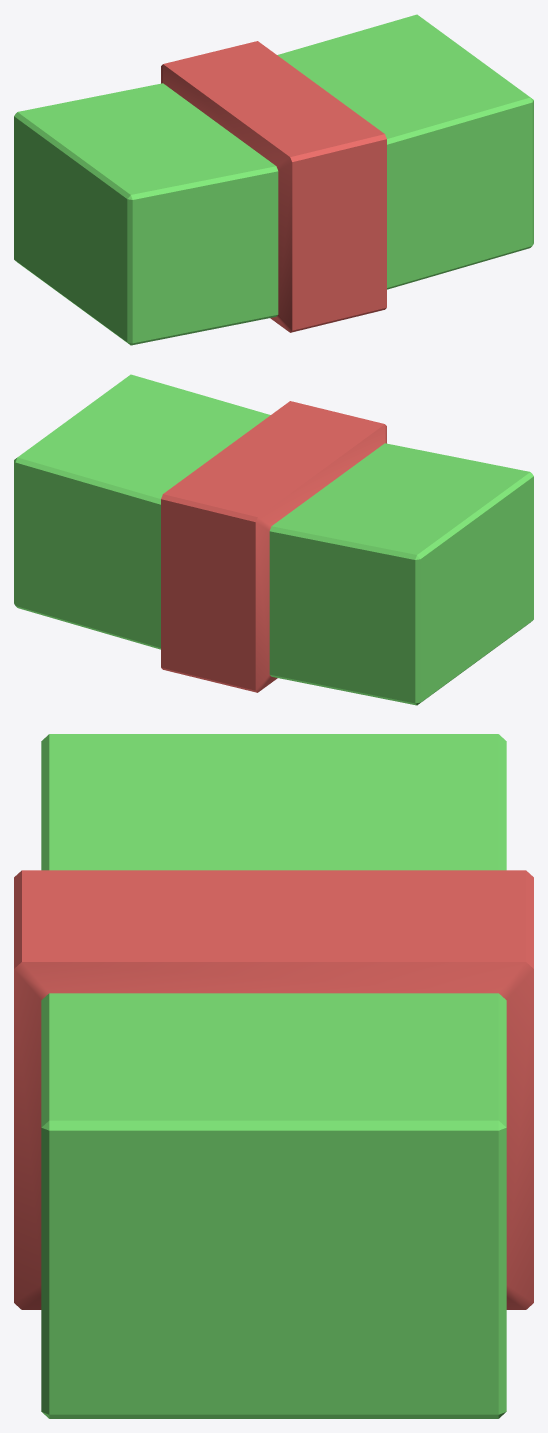
File: MoneybillsBigBlockout_RB.fbx
3 renders of one model, top to bottom at view 1: azimuth 30°, elevation 25°; view 2: azimuth 150°, elevation 25°; view 3: azimuth 270°, elevation 25°, orthographic. The views are drawn at different scales.
Visible parts, largest first — view 1: MoneybillsBigBlockout_RB; view 2: MoneybillsBigBlockout_RB; view 3: MoneybillsBigBlockout_RB.
Part boxes in pixels (bbox=[...]): MoneybillsBigBlockout_RB: bbox=[14, 14, 533, 345]; MoneybillsBigBlockout_RB: bbox=[14, 374, 533, 705]; MoneybillsBigBlockout_RB: bbox=[14, 734, 533, 1418].
Size of the model in its own units: 120 by 49.55 by 67.08.
